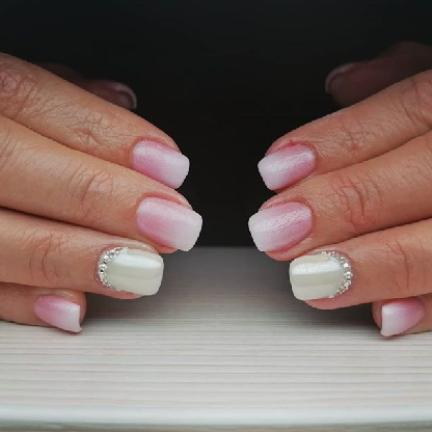Nail: (136, 196, 203, 251), (97, 246, 164, 296), (248, 201, 313, 252), (289, 251, 353, 300), (130, 139, 190, 189), (257, 144, 316, 190), (33, 294, 82, 332), (381, 297, 426, 336)
